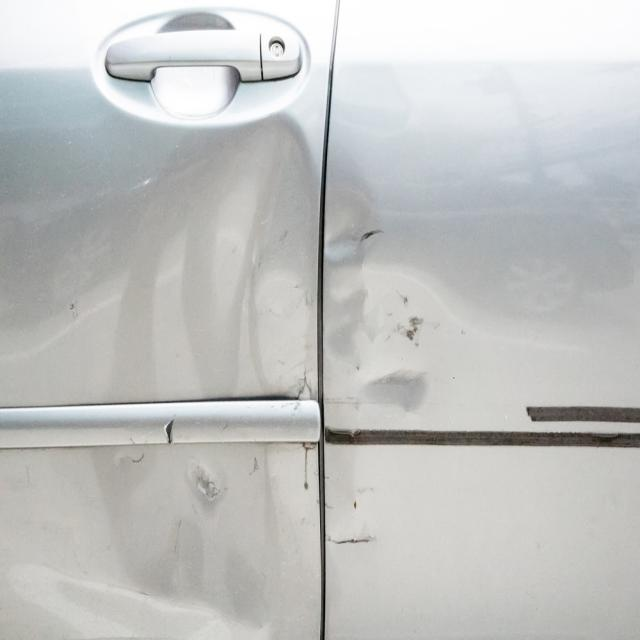dent: (16, 448, 286, 640), (318, 157, 440, 426), (210, 113, 321, 399)
